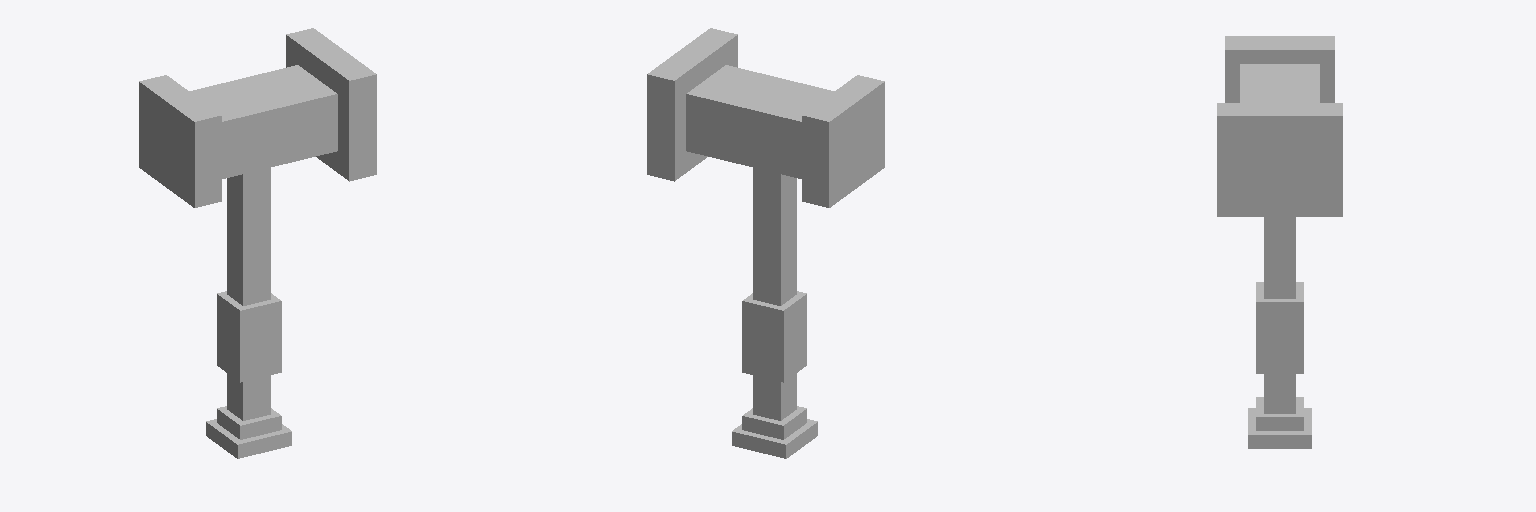
File: Warhammer.obj
The picture shows the model from 3 angles: view 1: azimuth 30°, elevation 25°; view 2: azimuth 150°, elevation 25°; view 3: azimuth 270°, elevation 25°; orthographic projection.
Parts seen in each view (by area): view 1: ModelWarhammer; view 2: ModelWarhammer; view 3: ModelWarhammer.
Boxes of the visible parts, box(x1,y1,x2,y2) form: ModelWarhammer: box(139, 28, 376, 458); ModelWarhammer: box(647, 28, 884, 458); ModelWarhammer: box(1217, 36, 1342, 448).
Bounding box in the file's own units: 0.8125 × 1.59 × 0.5.